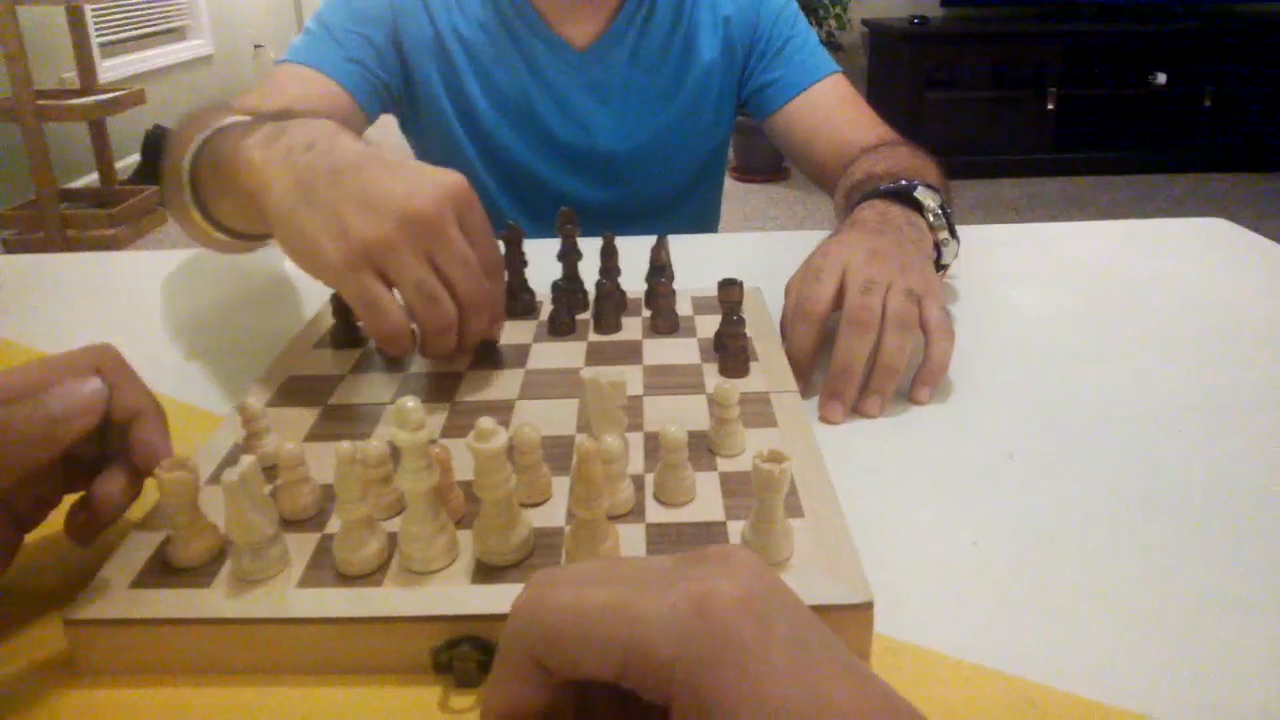hand: (477, 538, 924, 717), (263, 138, 508, 359), (2, 341, 176, 572), (779, 228, 954, 420)
